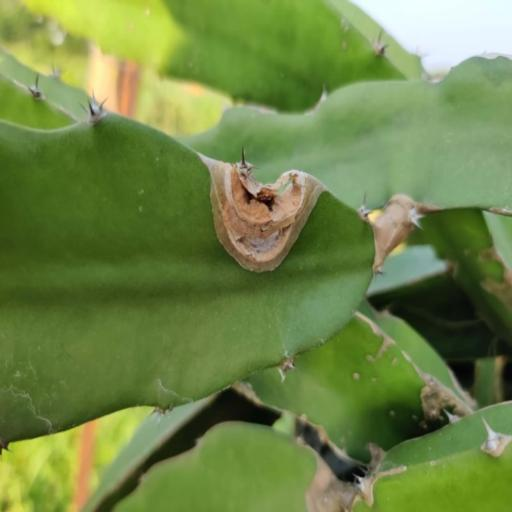stemcanker: (336, 343, 440, 421), (122, 164, 179, 250), (331, 3, 363, 62)
